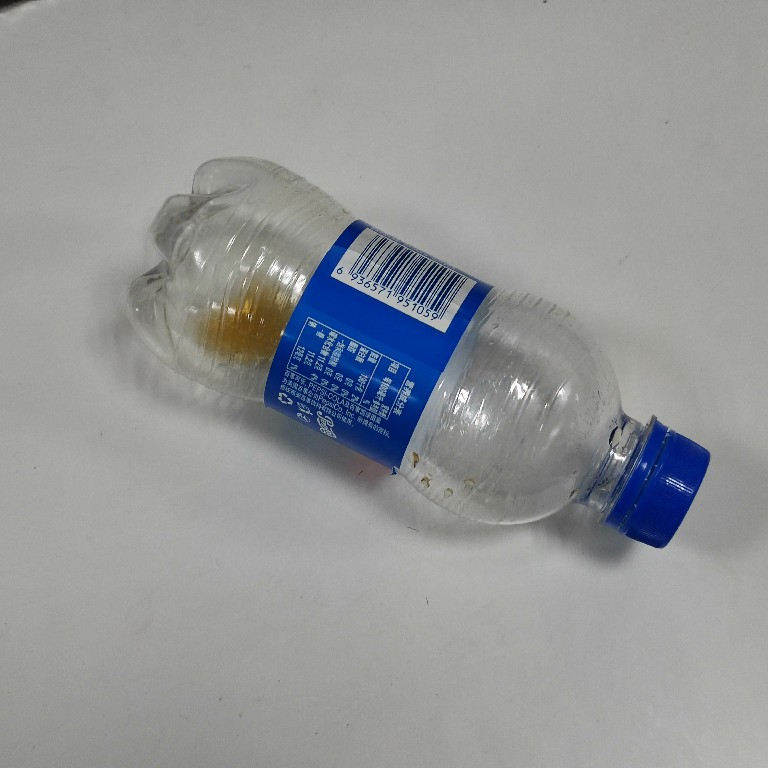bottle: (107, 144, 724, 561)
